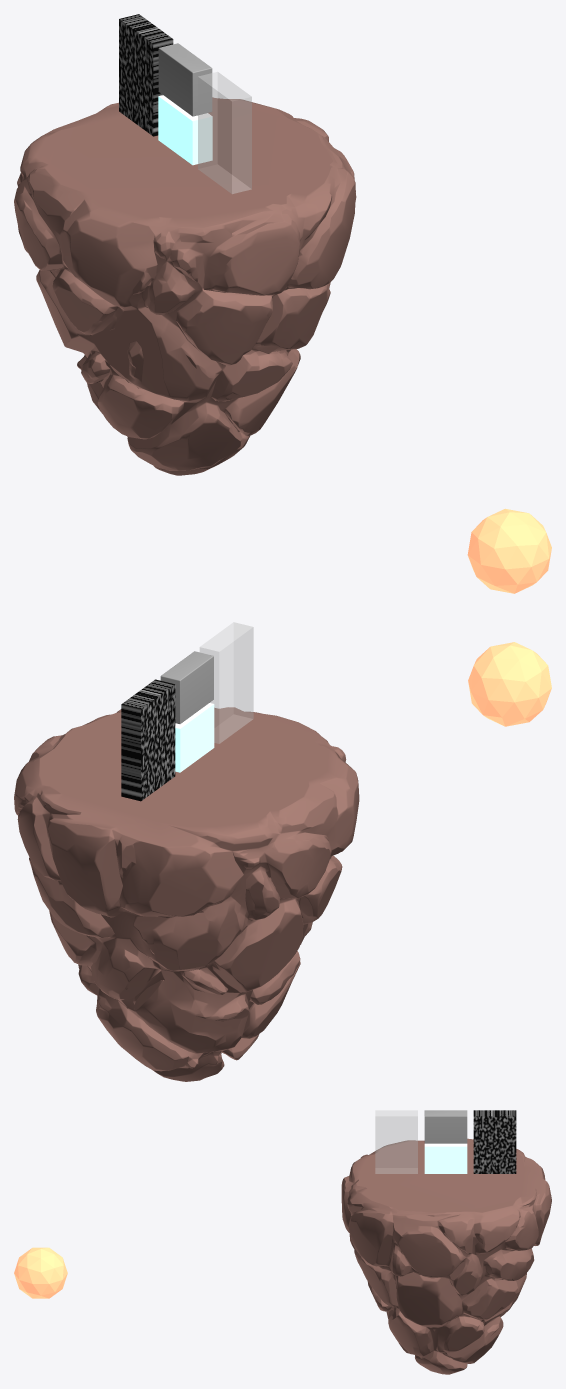
The model's file is island2.glb.
3 views of the same model, one above another, from view 1: azimuth 30°, elevation 25°; view 2: azimuth 150°, elevation 25°; view 3: azimuth 270°, elevation 25° (orthographic). The views are drawn at different scales.
Parts seen in each view (by area): view 1: Rock, Boxes, Sun; view 2: Rock, Boxes, Sun; view 3: Rock, Boxes, Sun.
Boxes of the visible parts, box(x1,y1,x2,y2) form: Rock: box(14, 97, 356, 475); Boxes: box(119, 14, 251, 193); Sun: box(467, 508, 551, 593); Rock: box(14, 707, 359, 1081); Boxes: box(121, 622, 253, 801); Sun: box(468, 642, 551, 726); Rock: box(341, 1138, 551, 1374); Boxes: box(375, 1110, 516, 1173); Sun: box(14, 1247, 67, 1298).
Bounding box in the file's own units: 11.14 × 15.03 × 28.35.
6 materials, 1 textured.
